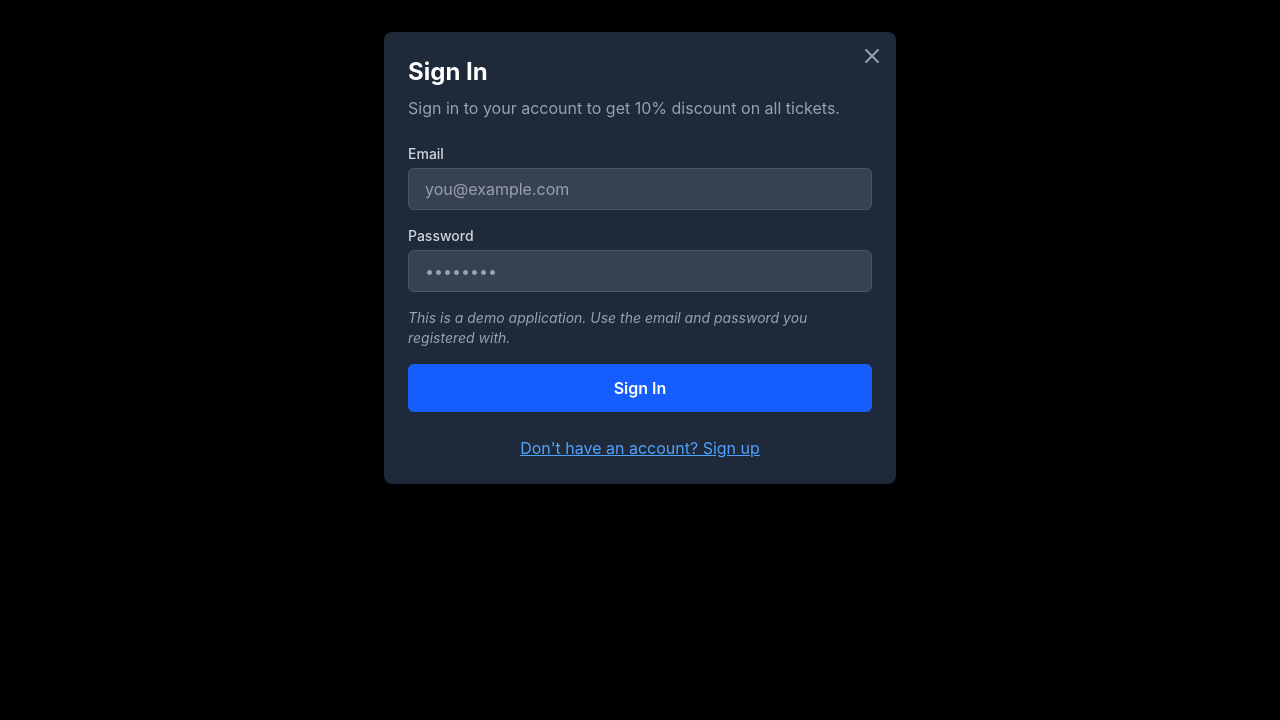
it: AuthModals › switches between Sign In and Sign Up modes
Expected: the heading "Sign In" is shown, x1=408 y1=57 x2=488 y2=86
// Click switch link
Click the button "Don't have an account? Sign up" at (640, 448), box x1=520 y1=436 x2=760 y2=460
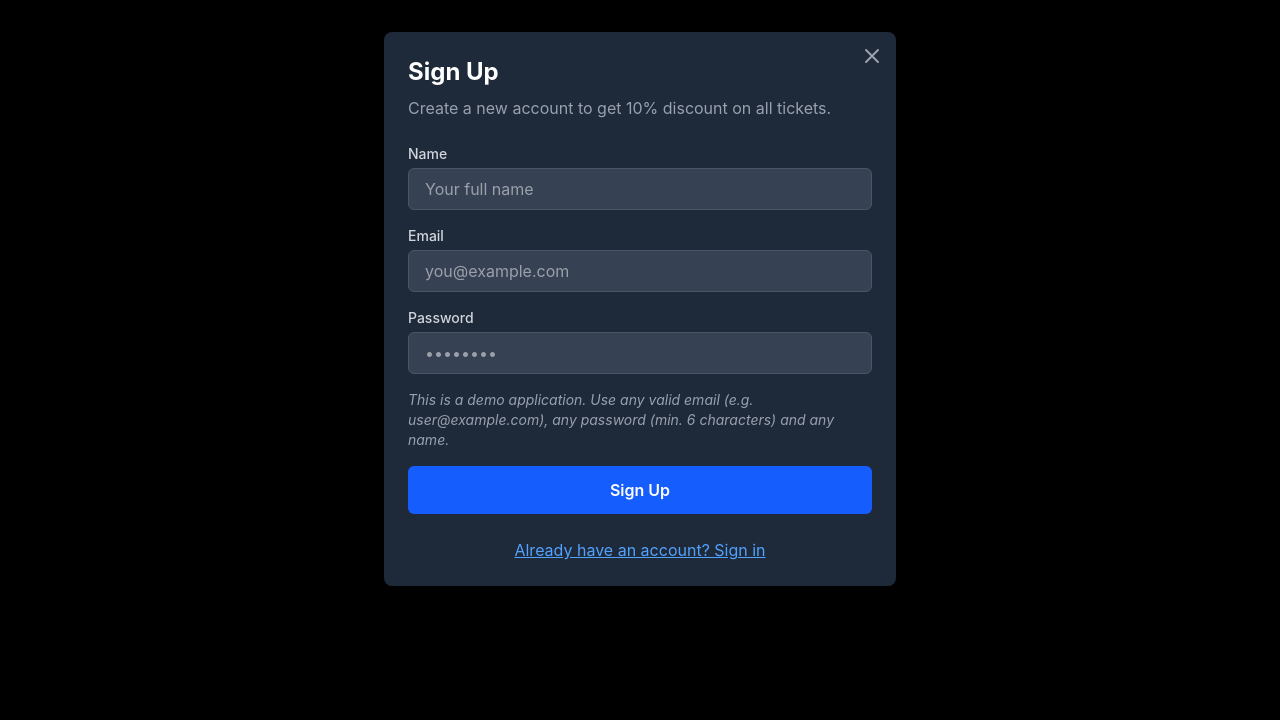
Now the heading "Sign Up" is shown, box x1=408 y1=57 x2=499 y2=86
Now the field labelled "Name" is shown, box x1=408 y1=168 x2=872 y2=210
// Switch back
Click the button "Already have an account? Sign in" at (640, 550), box x1=514 y1=538 x2=766 y2=562
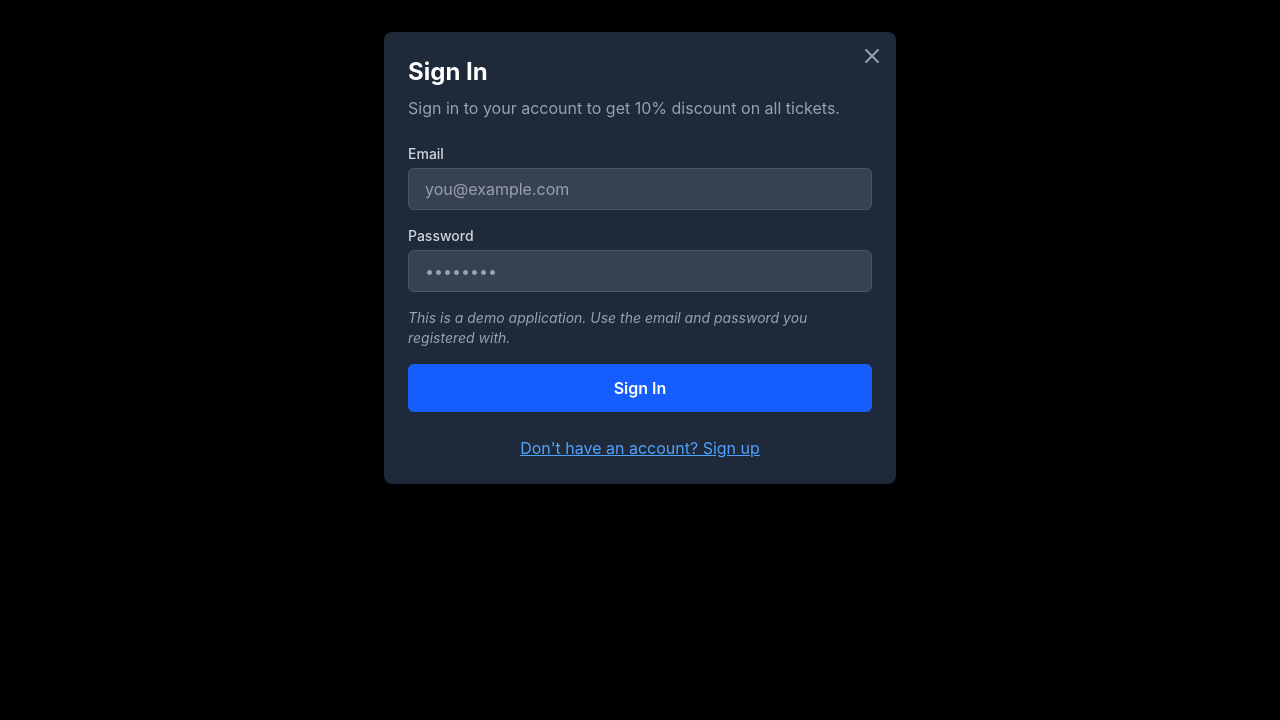
Now the heading "Sign In" is shown, box x1=408 y1=57 x2=488 y2=86
